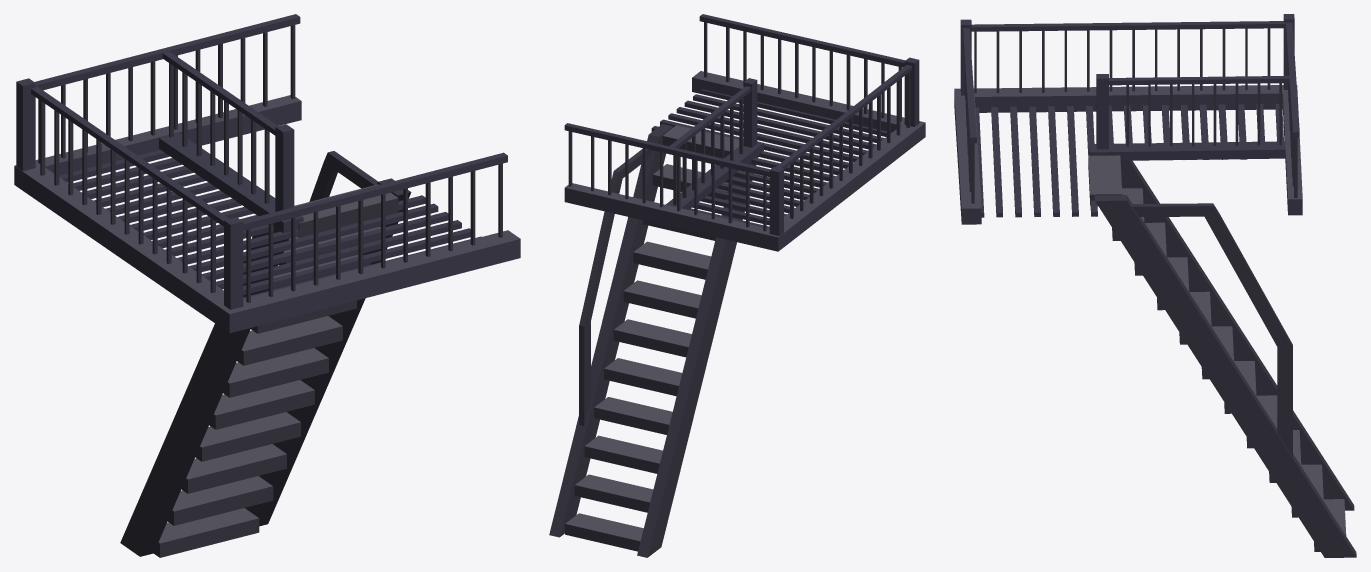
The model's file is CMF2Stairs02.fbx.
3 views of the same model, side by side, from view 1: azimuth 30°, elevation 25°; view 2: azimuth 150°, elevation 25°; view 3: azimuth 270°, elevation 25° (orthographic). The views are drawn at different scales.
Parts seen in each view (by area): view 1: Stair.001, BalconyBottom.024, BalconyBottom.025, StairSides.029, BalconyRailing.101, BalconyRailing.099, BalconyRailing.100, BalconyRailing.098; view 2: StairSides.029, Stair.001, BalconyBottom.024, BalconyBottom.025, BalconyRailing.100, BalconyRailing.101, BalconyRailing.099, BalconyRailing.098; view 3: StairSides.029, BalconyBottom.024, BalconyBottom.025, BalconyRailing.099, Stair.001, BalconyRailing.098, BalconyRailing.101, BalconyRailing.100.
Part boxes in pixels (x1,y1,x2,y2): Stair.001: (154,184,398,557); BalconyBottom.024: (14,95,520,333); BalconyBottom.025: (59,149,481,298); StairSides.029: (120,151,411,556); BalconyRailing.101: (224,152,507,309); BalconyRailing.099: (159,51,303,233); BalconyRailing.100: (16,14,300,170); BalconyRailing.098: (31,86,229,292); StairSides.029: (549,124,758,557); Stair.001: (565,125,743,551); BalconyBottom.024: (564,71,925,251); BalconyBottom.025: (651,89,891,228); BalconyRailing.100: (564,123,783,235); BalconyRailing.101: (699,14,919,126); BalconyRailing.099: (665,78,763,209); BalconyRailing.098: (776,65,911,218); StairSides.029: (1094,160,1356,557); BalconyBottom.024: (954,85,1302,224); BalconyBottom.025: (975,104,1283,217); BalconyRailing.099: (1089,74,1289,160); Stair.001: (1088,153,1346,551); BalconyRailing.098: (971,21,1285,93); BalconyRailing.101: (960,19,976,203); BalconyRailing.100: (1283,14,1299,197).
Bounding box in the file's own units: 643 × 1053 × 884.
